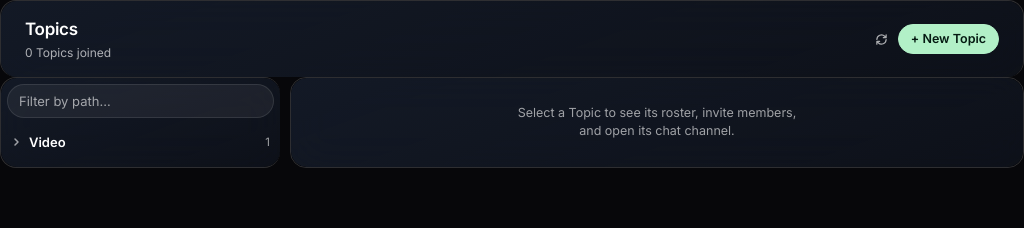
Scenario: QURATOR-144 W2 — path-only filter, force-open › a query matching nothing states it honestly
The image size is (1024, 228).
Click the button with class "root-header" at [47, 142], box [7,124,274,161]
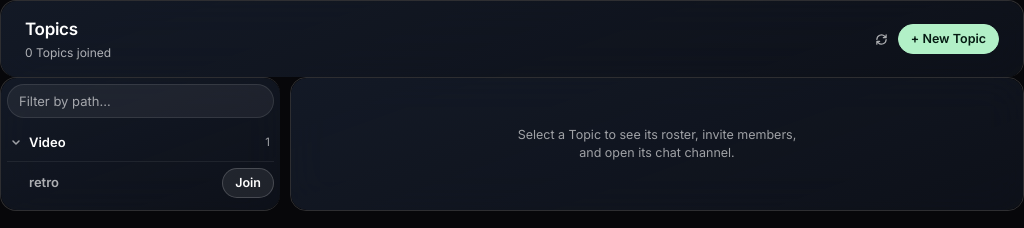
expect the text "retro" is shown: met, box [29,174,59,190]
Type "zzz-no-such" into the search field with placeholder "Filter by path…" at [140, 101], box [7,84,274,118]
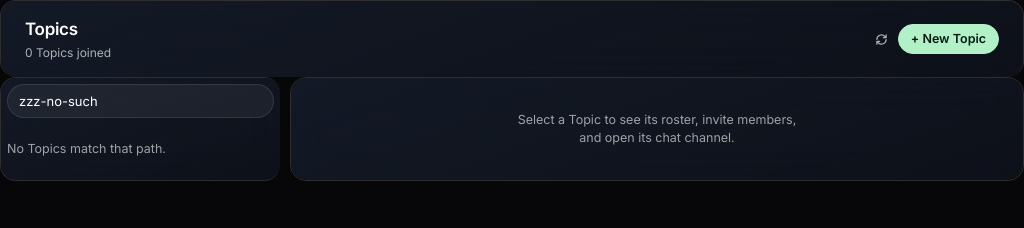
expect the text "No Topics match that path" is shown: met, box [7,141,166,156]
